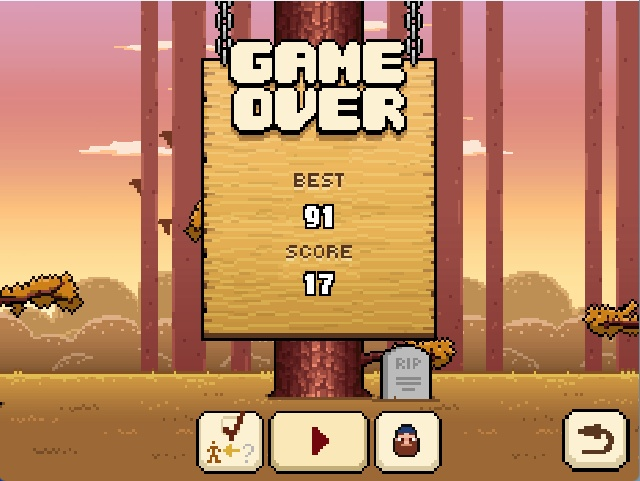game_over: (221, 35, 412, 146)
